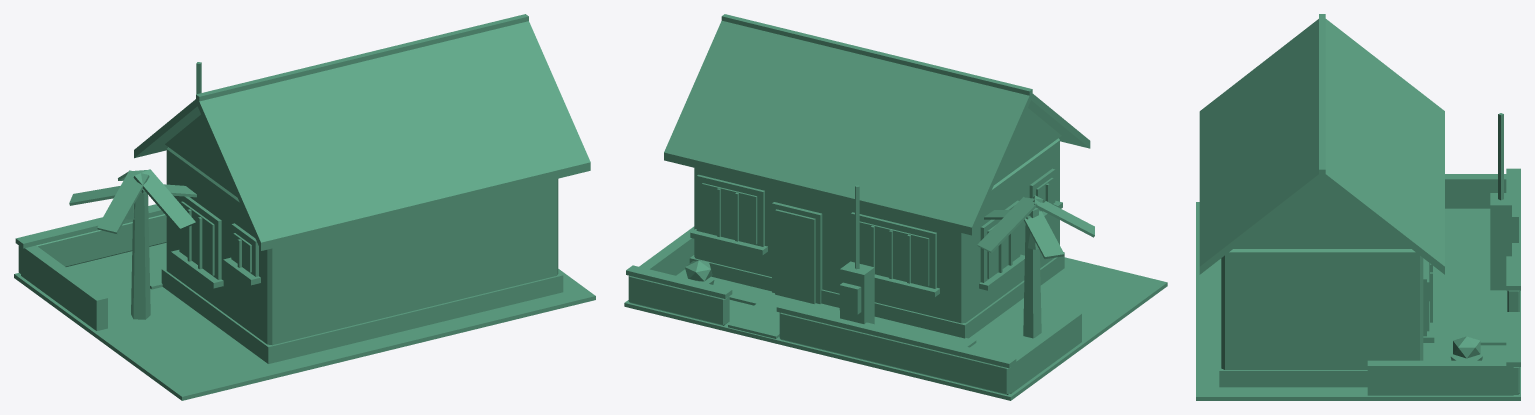
The picture shows the model from 3 angles, left to right: view 1: azimuth 30°, elevation 25°; view 2: azimuth 150°, elevation 25°; view 3: azimuth 270°, elevation 25°; orthographic projection. The views are drawn at different scales.
Visible parts, largest first — view 1: corpo; view 2: corpo; view 3: corpo.
Boxes of the visible parts, left/top/right/bottom form: corpo: left=14, top=14, right=595, bottom=400; corpo: left=624, top=14, right=1167, bottom=400; corpo: left=1196, top=14, right=1520, bottom=400.
Bounding box in the file's own units: 1.29 × 0.703 × 0.9.
